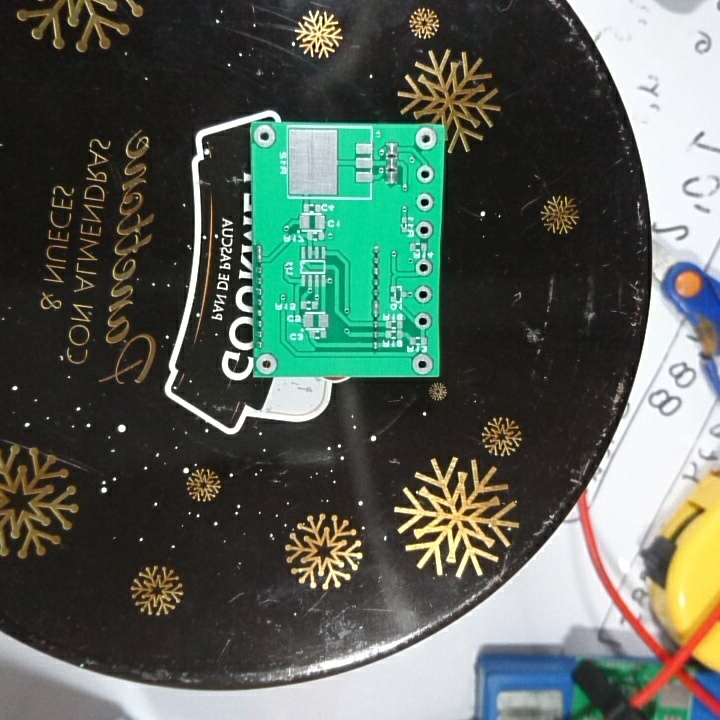F: (250, 121, 279, 149), (413, 125, 438, 153), (410, 350, 436, 375), (255, 350, 279, 377), (415, 190, 436, 215), (413, 257, 436, 278), (413, 283, 434, 306), (413, 309, 434, 332), (413, 220, 436, 240), (415, 163, 436, 184)
P: (253, 242, 267, 265), (370, 298, 382, 320)
